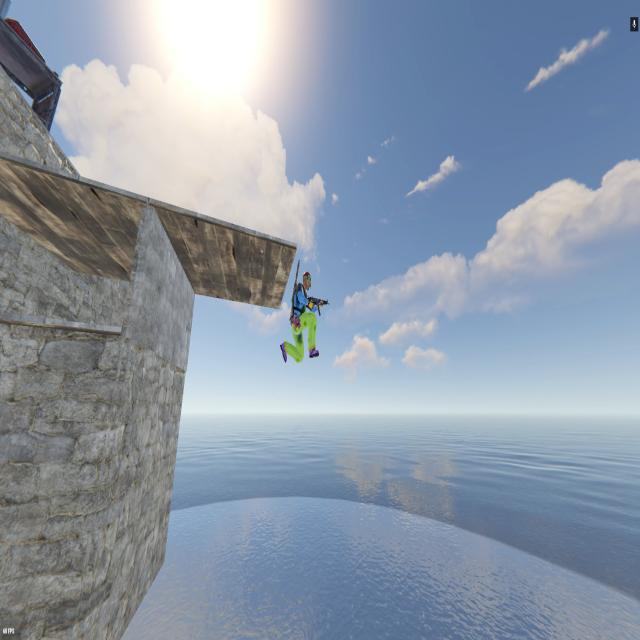Player: (279, 266, 322, 367)
